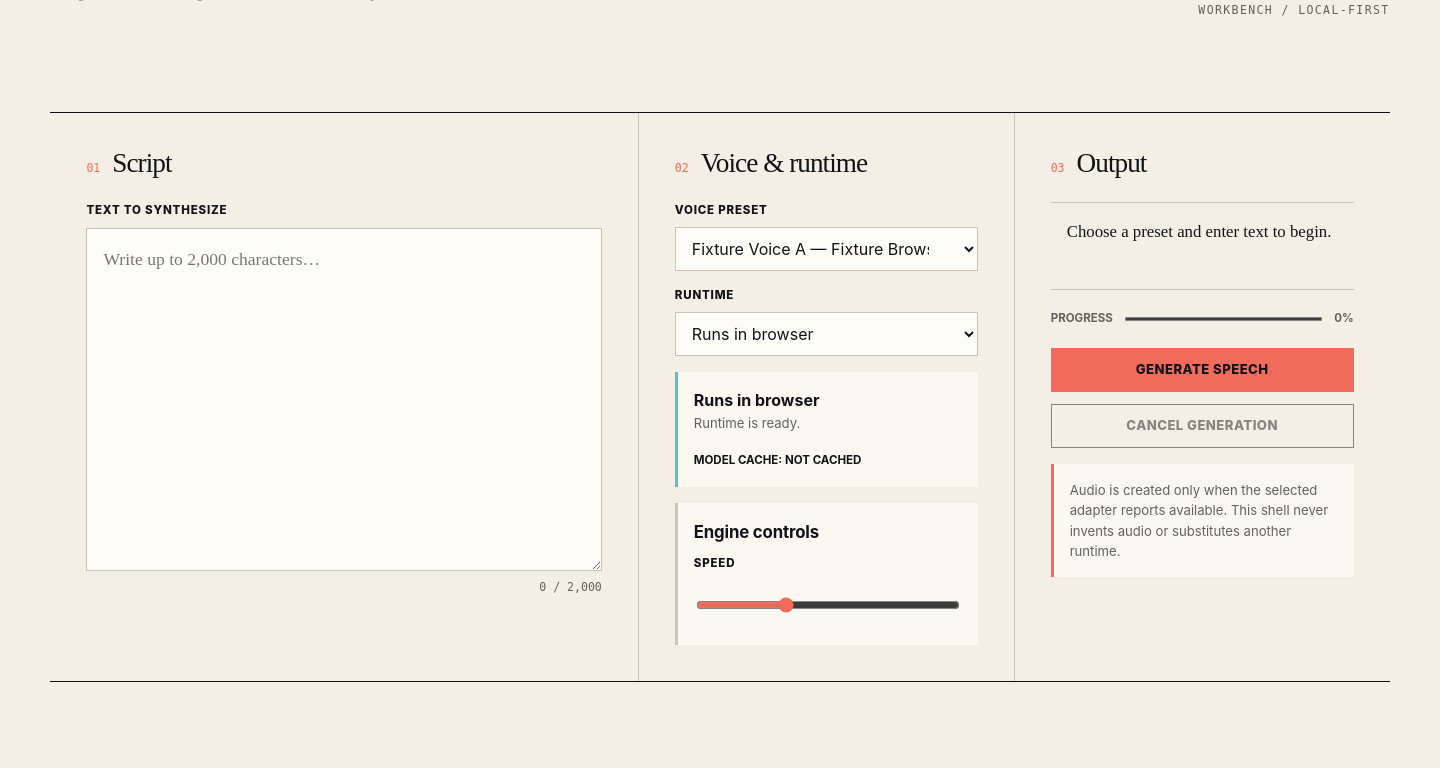
Test: play workbench with an available adapter › locks mutable inputs and cancels the adapter that owns the active operation
This screenshot has width=1440, height=768.
(page scrolled)
Check: the text "Runtime is ready." is shown, box [694,415,800,431]
Type "Hold this run." into the text box labelled "Text to synthesize" at (344, 400), box [86,228,602,571]
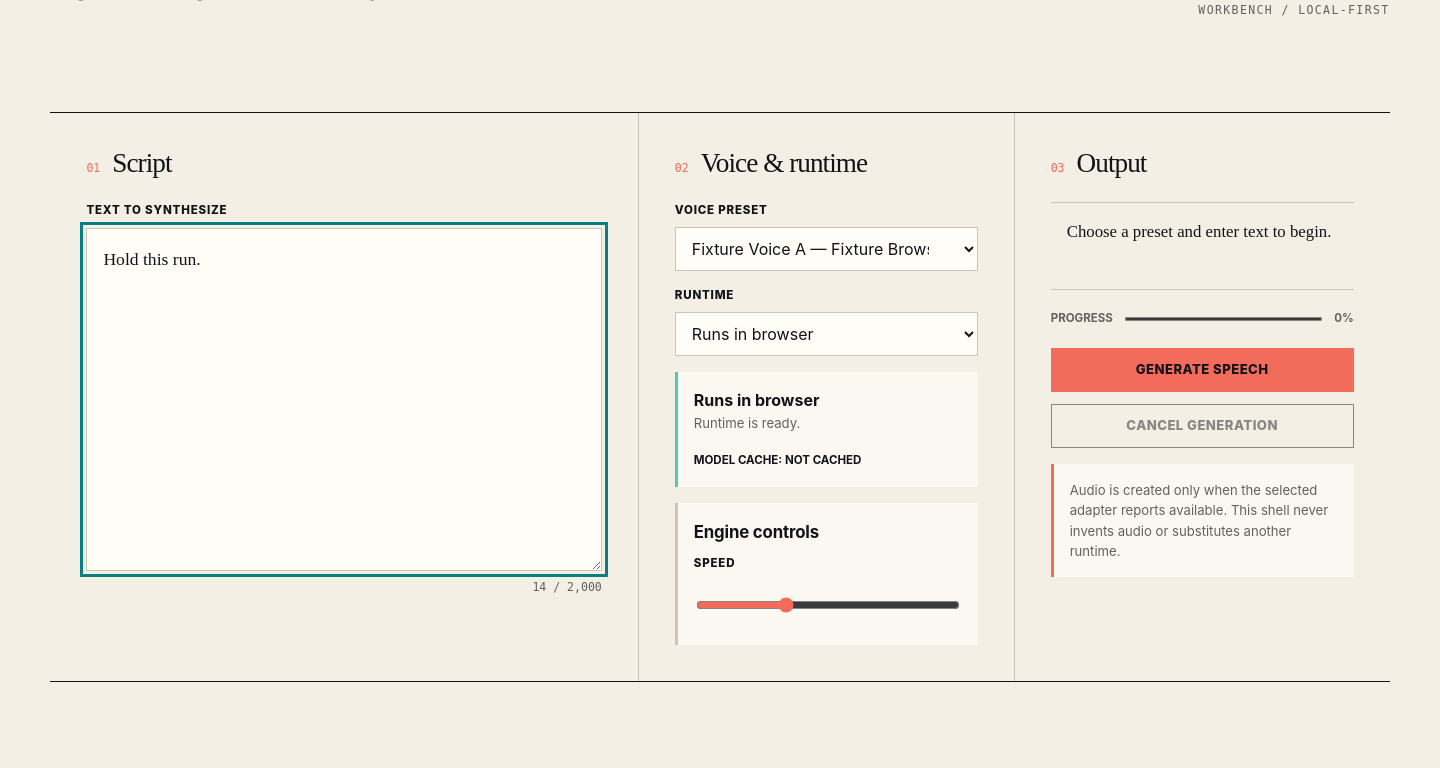
Click the button "Generate speech" at (1202, 370), box [1051,348,1354,392]
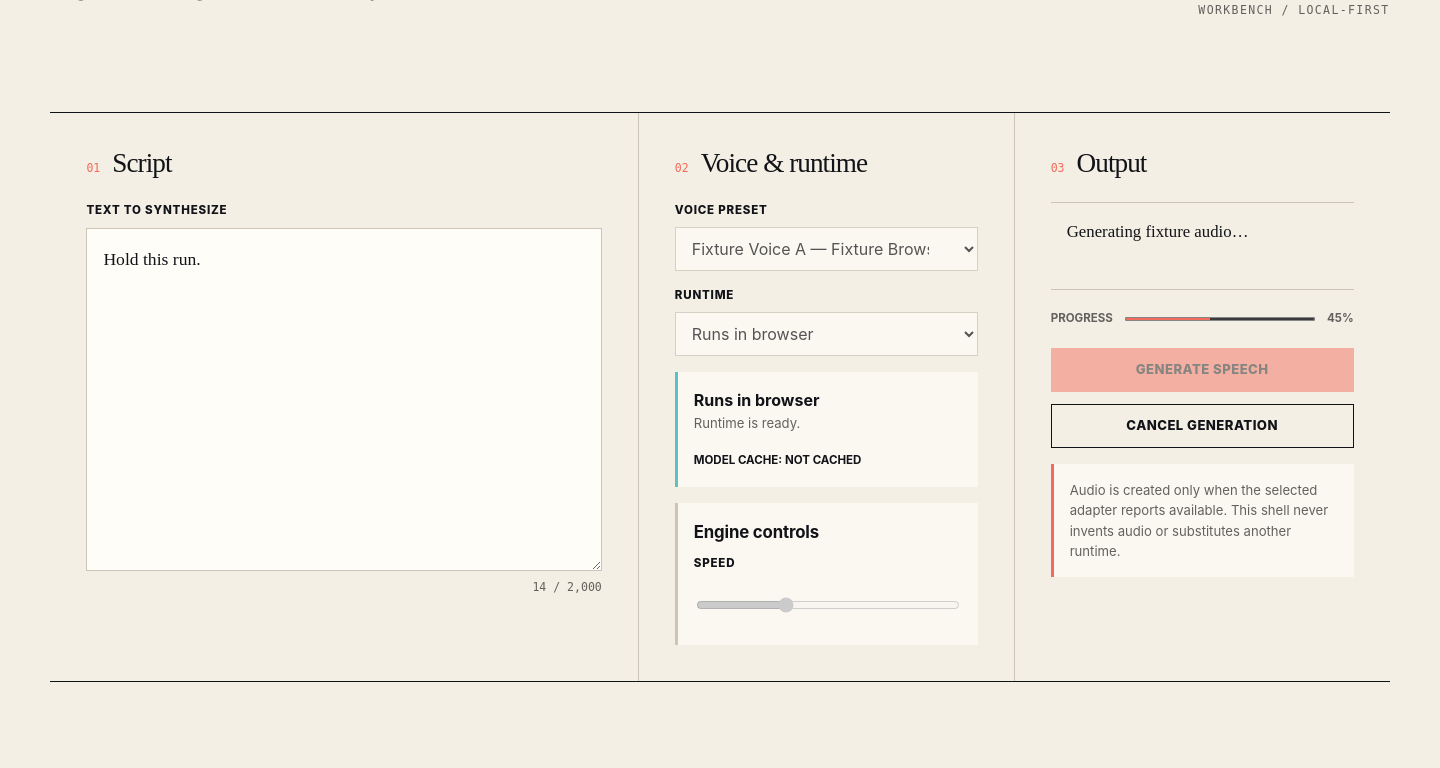
Check: the message named "Generation status" reads "Generating fixture audio…", box [1067,222,1248,241]
Check: the dropdown labelled "Voice preset" is disabled, box [675,227,978,271]
Check: the dropdown labelled "Runtime" is disabled, box [675,312,978,356]
Click the button "Cancel generation" at (1202, 426), box [1051,404,1354,448]
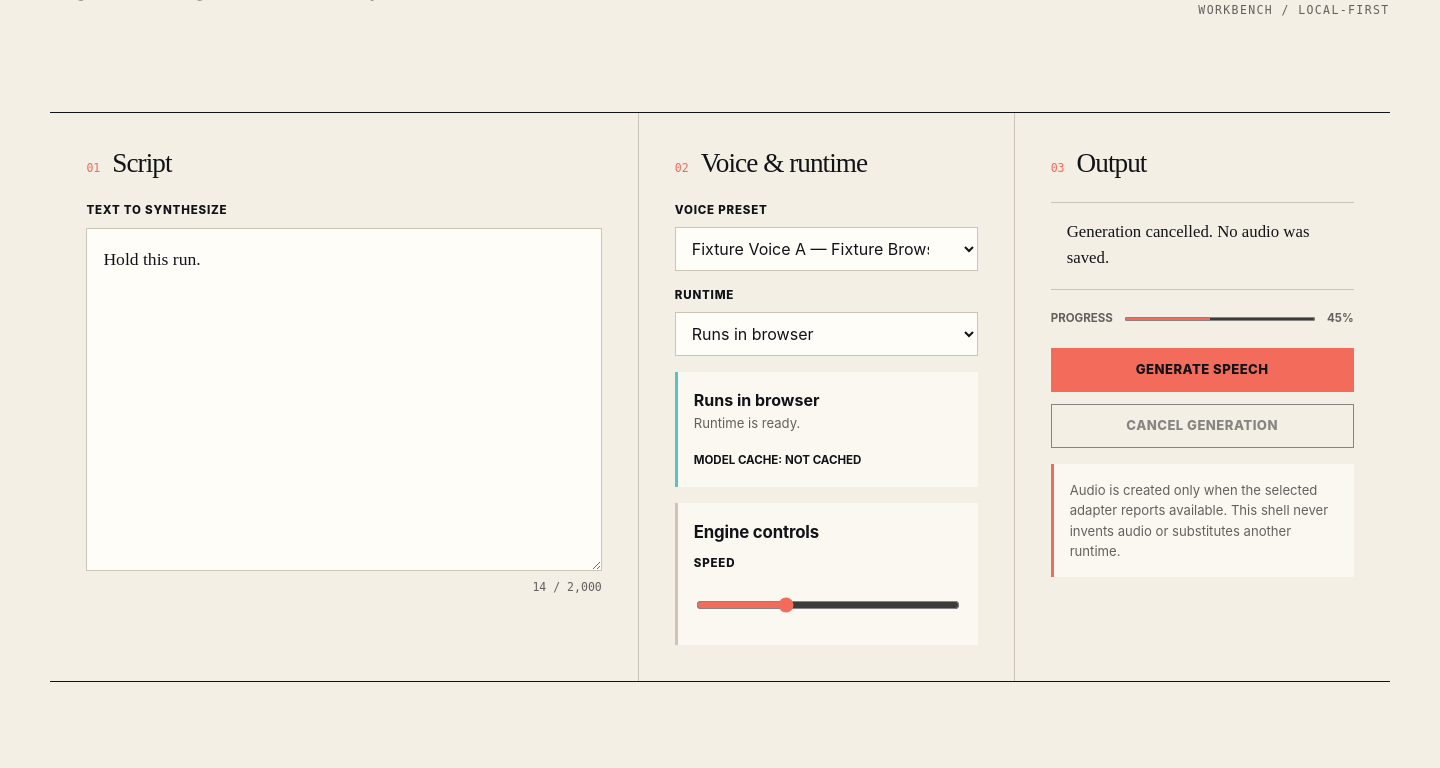
Check: the message named "Generation status" shows "Generation cancelled.", box [1067,222,1310,267]
